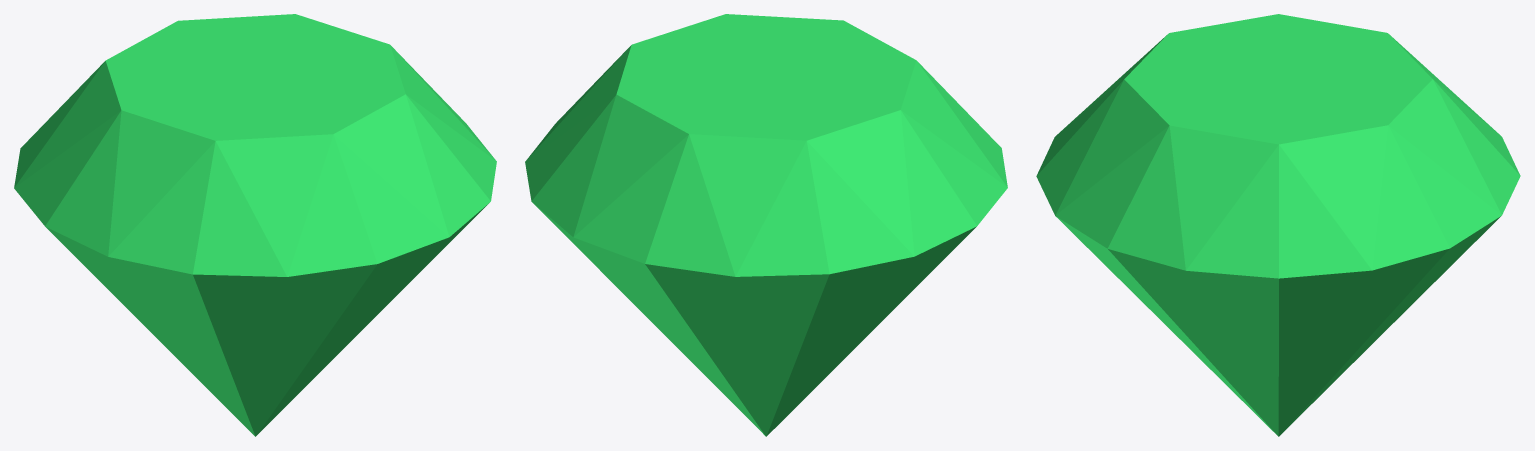
The model's file is diamond.fbx.
3 renders of one model, left to right at view 1: azimuth 30°, elevation 25°; view 2: azimuth 150°, elevation 25°; view 3: azimuth 270°, elevation 25°, orthographic.
Visible parts, largest first — view 1: Plane; view 2: Plane; view 3: Plane.
Boxes of the visible parts, box(x1,y1,x2,y2) form: Plane: box(14, 14, 496, 436); Plane: box(525, 14, 1007, 436); Plane: box(1036, 14, 1520, 436).
Bounding box in the file's own units: 179 × 146 × 179.
